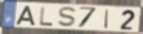2: (119, 8, 137, 31)
7: (79, 6, 98, 30)
A: (15, 5, 37, 26)
I: (104, 8, 110, 29)
L: (39, 6, 55, 27)
S: (57, 6, 79, 29)
